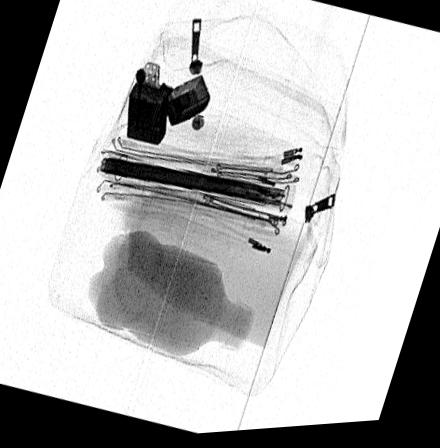Lighter: (127, 61, 212, 147)
